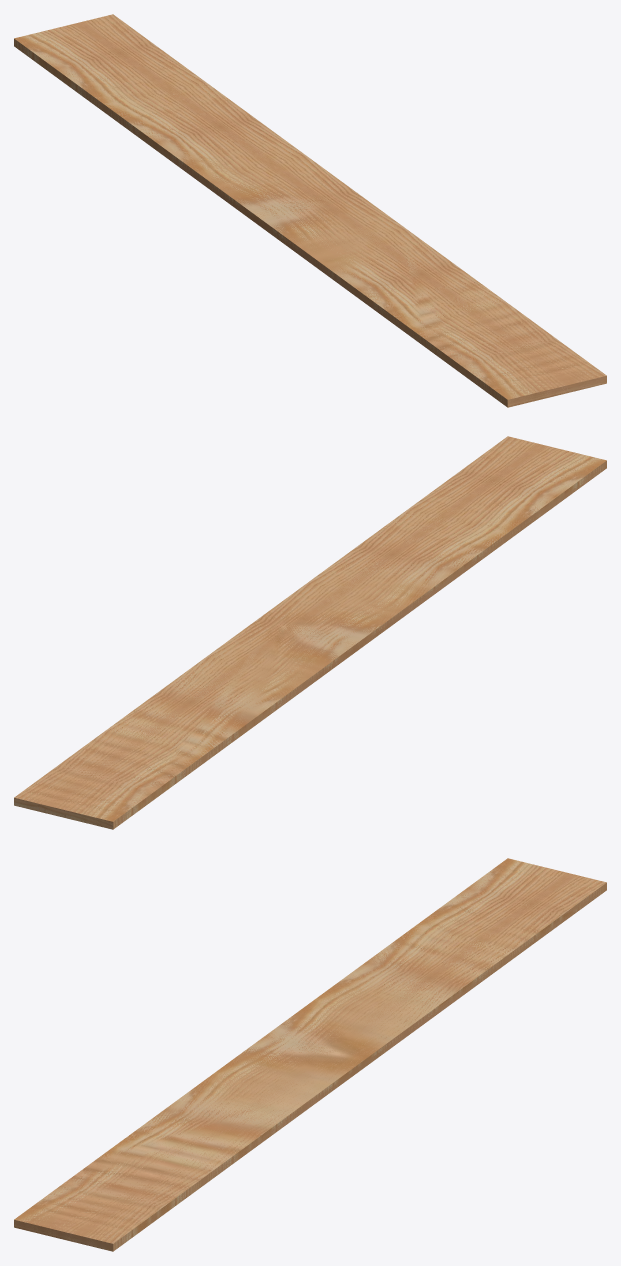
The model's file is Tábua.obj.
3 views of the same model, one above another, from view 1: azimuth 30°, elevation 25°; view 2: azimuth 150°, elevation 25°; view 3: azimuth 330°, elevation 25° (orthographic).
Size of the model in its own units: 13.18 by 1 by 114.
